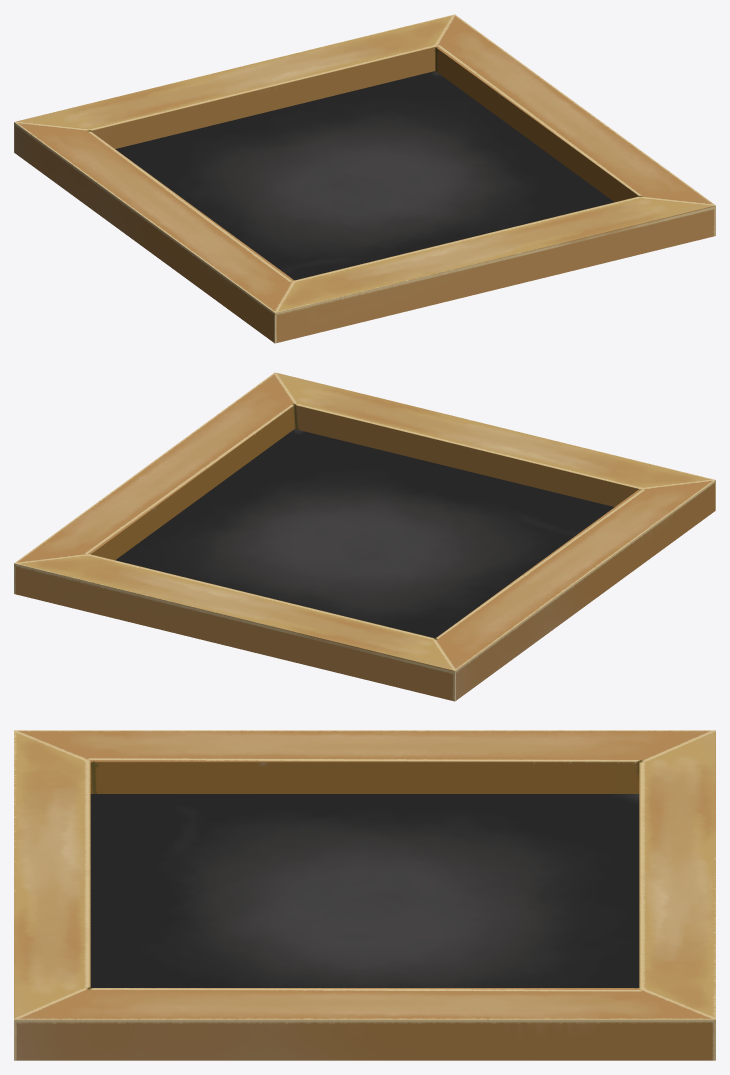
Rendered from dungeon_walltrap_base.fbx.
3 views of the same model, one above another, from view 1: azimuth 30°, elevation 25°; view 2: azimuth 150°, elevation 25°; view 3: azimuth 270°, elevation 25° (orthographic). The views are drawn at different scales.
Parts seen in each view (by area): view 1: Cube.001_Cube.004; view 2: Cube.001_Cube.004; view 3: Cube.001_Cube.004.
Boxes of the visible parts, x1,y1,x2,y2 form: Cube.001_Cube.004: (14,14,715,343); Cube.001_Cube.004: (14,372,715,701); Cube.001_Cube.004: (14,730,715,1060).
Bounding box in the file's own units: 52.56 × 3.48 × 53.87.
